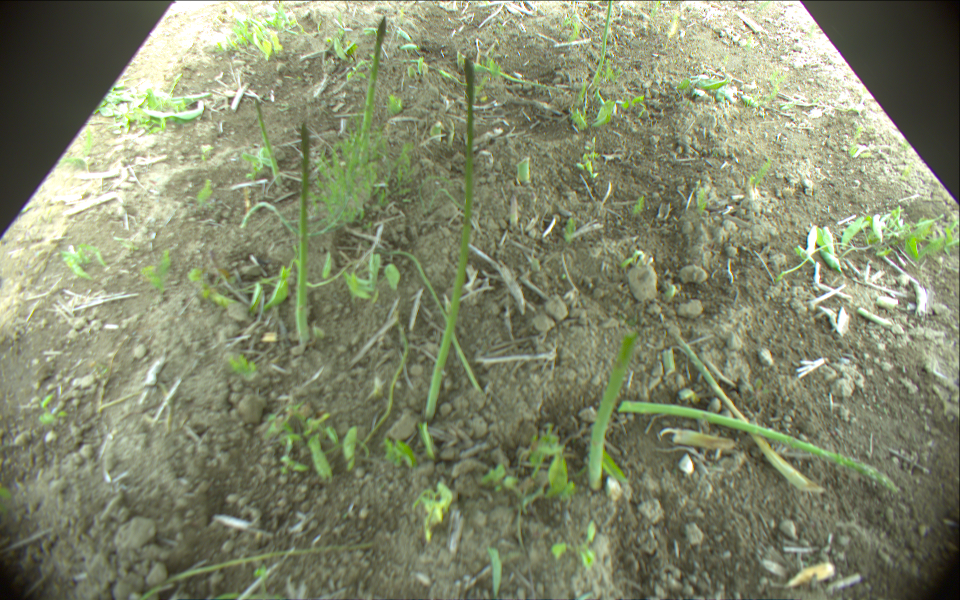aspa: (661, 316, 824, 492), (618, 401, 898, 492), (425, 56, 476, 420), (380, 248, 482, 392), (138, 543, 375, 600), (588, 332, 638, 496), (352, 16, 386, 167), (457, 56, 567, 92), (296, 124, 312, 344), (252, 98, 284, 184), (589, 1, 611, 85), (516, 157, 531, 185)
